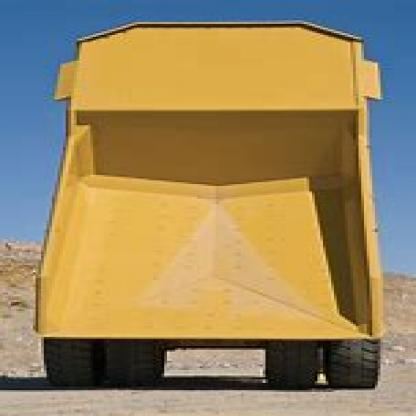dump_truck: (16, 7, 405, 398)
